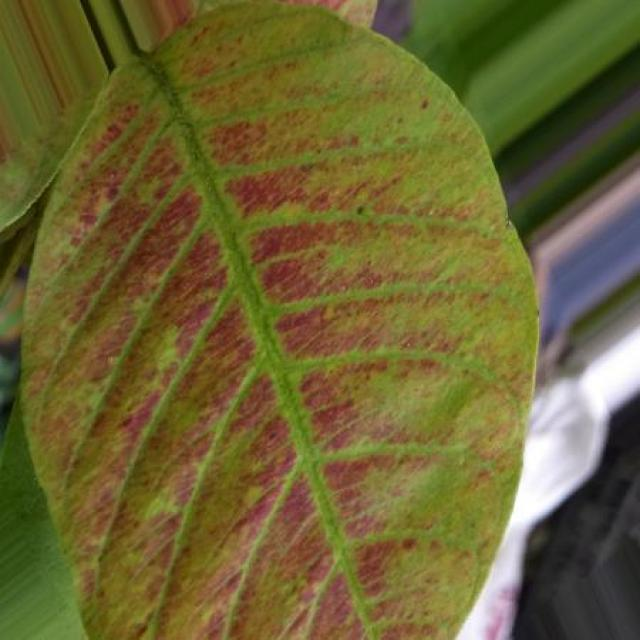Red Rust: (20, 4, 536, 640)
